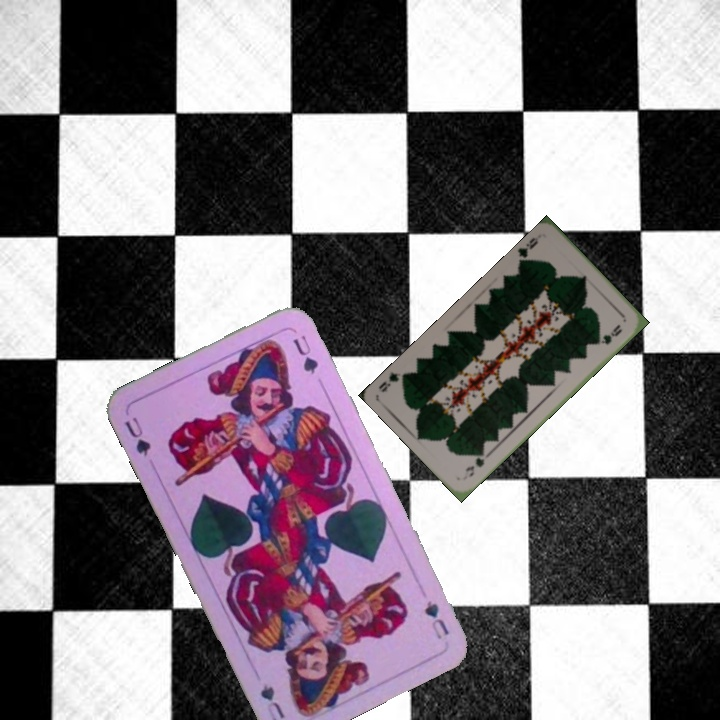G9: (514, 231, 543, 266), (461, 447, 492, 479)
GU: (120, 412, 154, 459), (420, 596, 452, 642)
